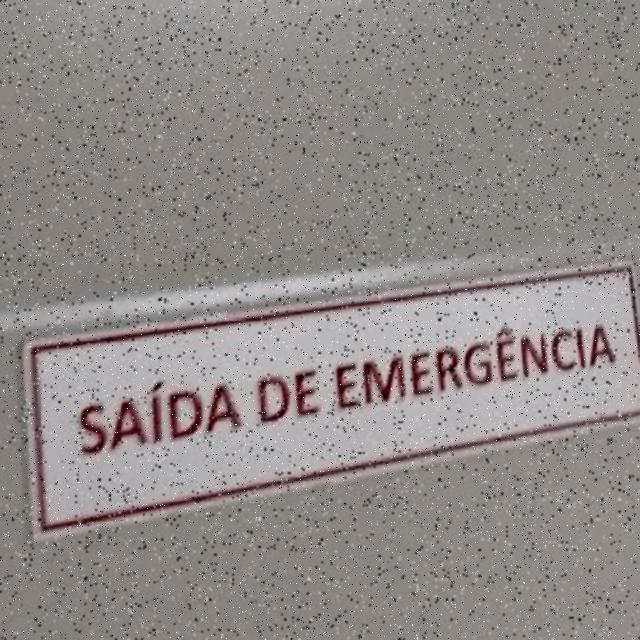emergency_exit: (23, 262, 639, 537)
